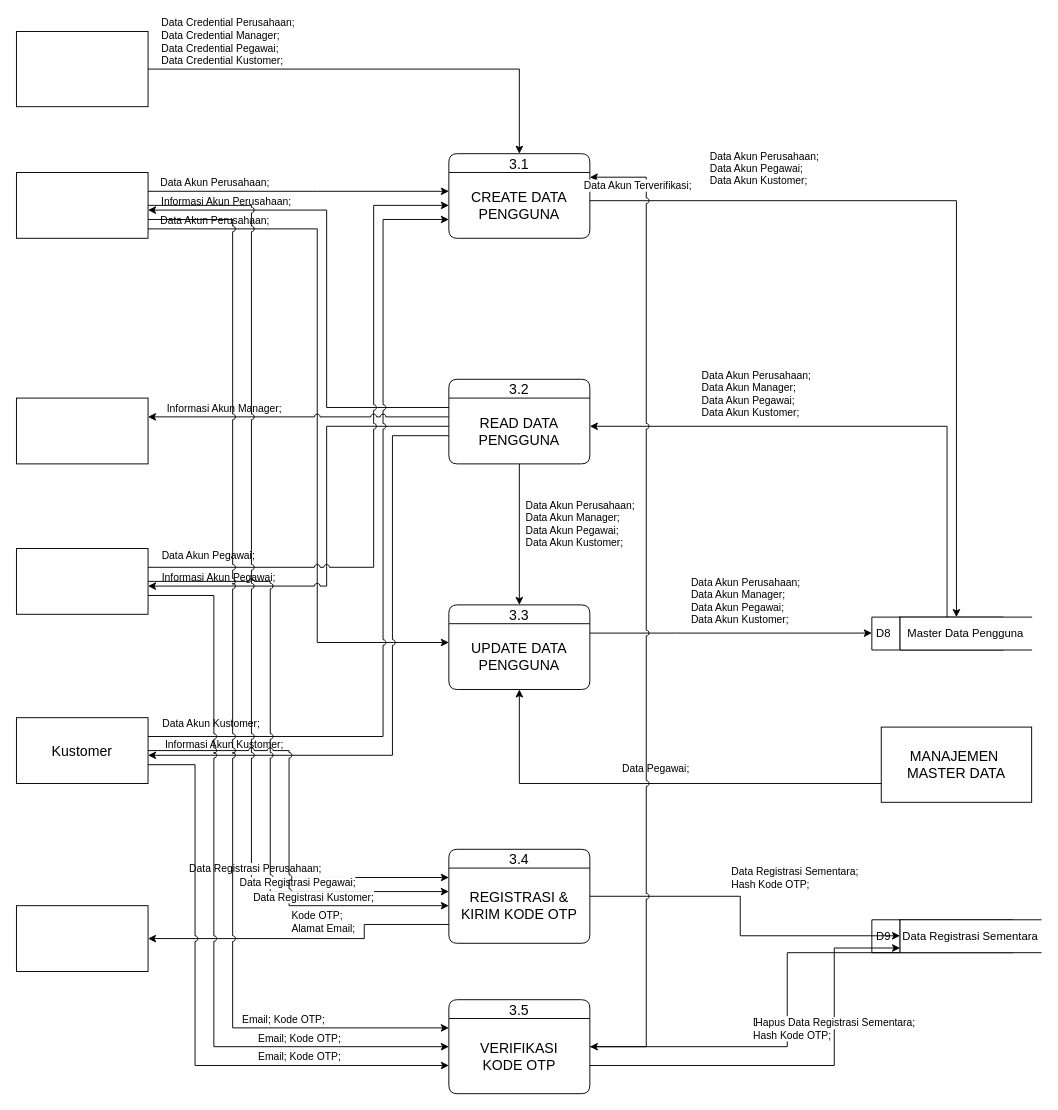
The diagram is 1058 pixels wide and 1110 high, and some of its shapes have lost their labels. The shapes that lost their labels are listed below. From the top down, each one's centre as x and y in pixels, then its label:
At pixel 82 69: "MODUL AUTENTIKASI".
At pixel 82 205: "Owner".
At pixel 82 430: "Manager".
At pixel 82 581: "Pegawai".
At pixel 82 938: "LAYANAN EMAIL".
